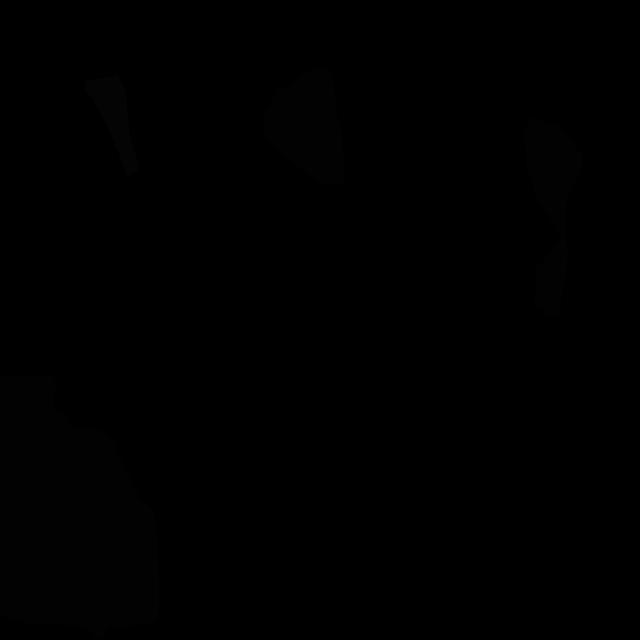cardboard: (0, 374, 159, 640), (522, 116, 584, 318), (262, 66, 345, 186)
soft_plastic: (85, 74, 138, 178)
